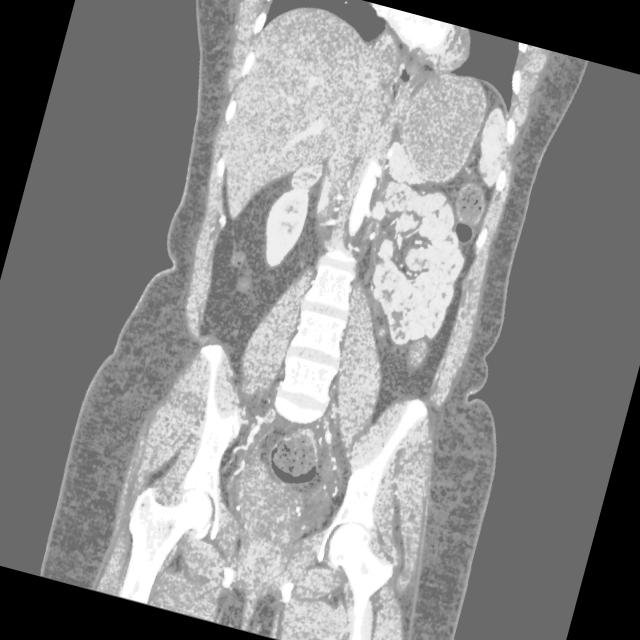NORMAL: (43, 0, 611, 622)
